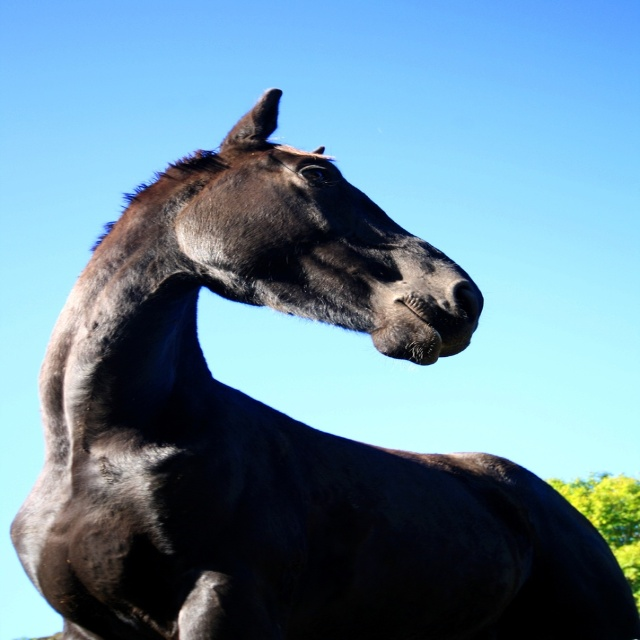Horse: (4, 90, 639, 640)
